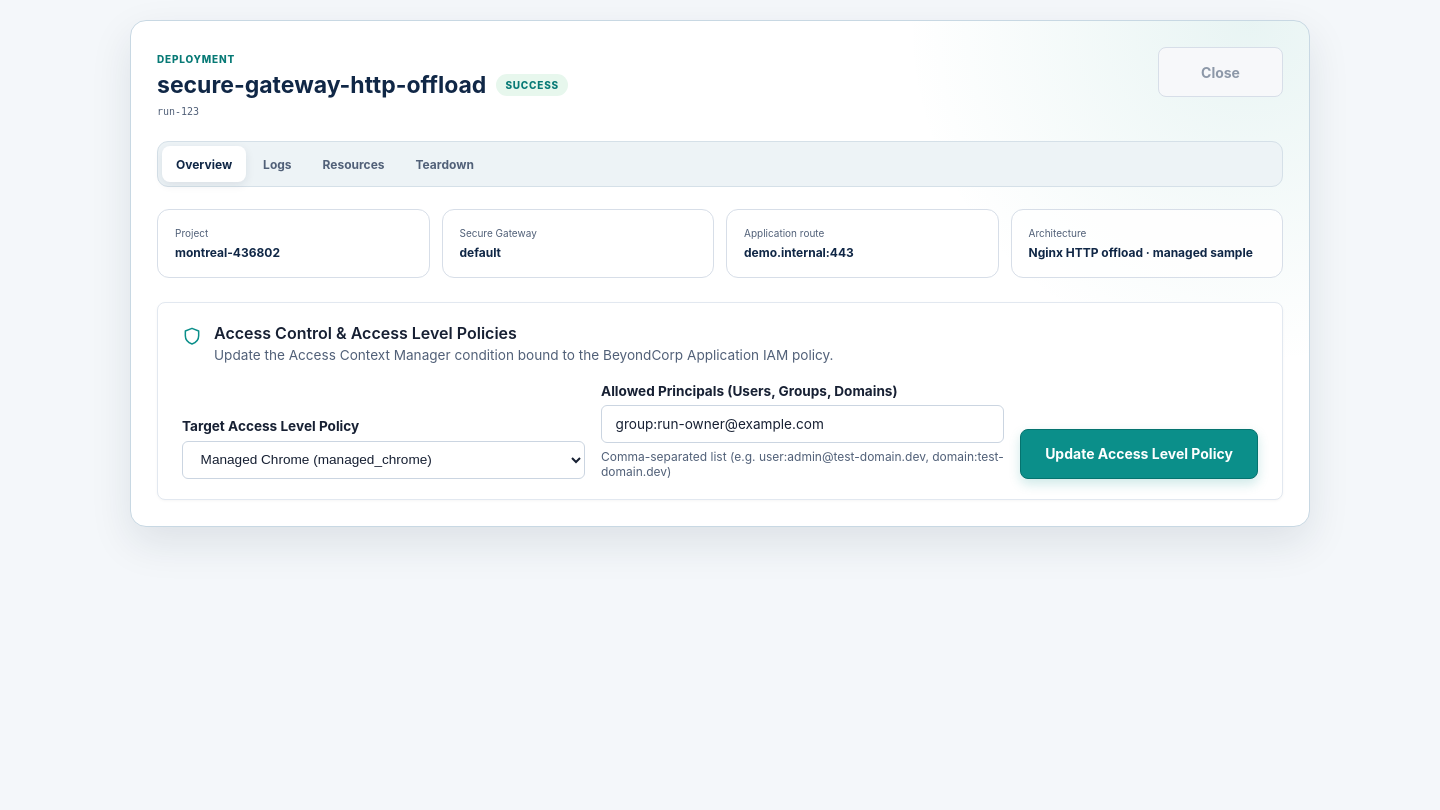
Scenario: DeploymentManager › restores and resumes an interrupted teardown after a page reload
This screenshot has width=1440, height=810.
Expected: the text "montreal-436802" is shown, [175,245,280,260]
Click the button "Teardown": (445, 164) [402,146,488,182]
(page scrolled)
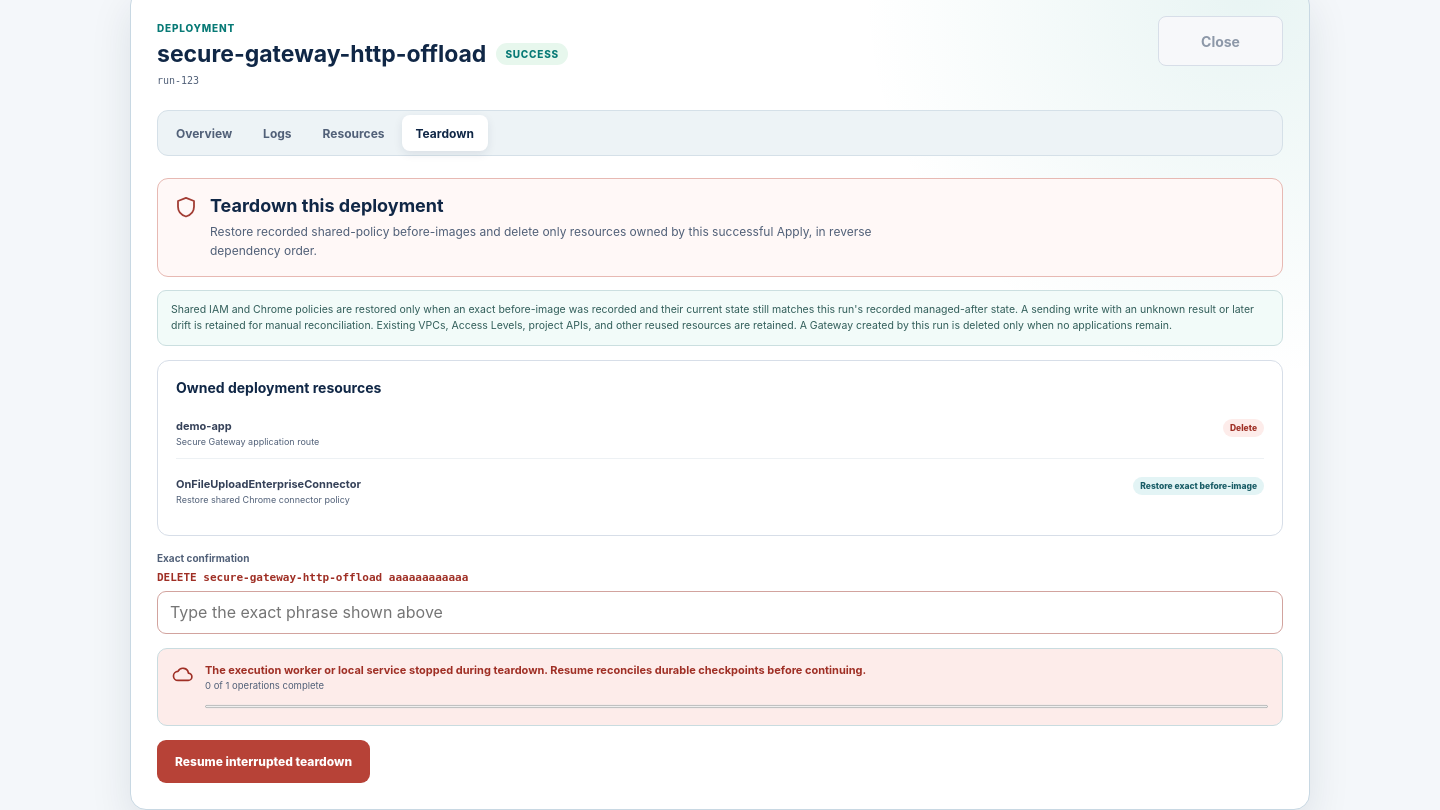
Now the text "execution worker or local service stopped during teardown" is shown, box [205,663,866,677]
Click the button "Resume interrupted teardown": (264, 761) [157,740,370,783]
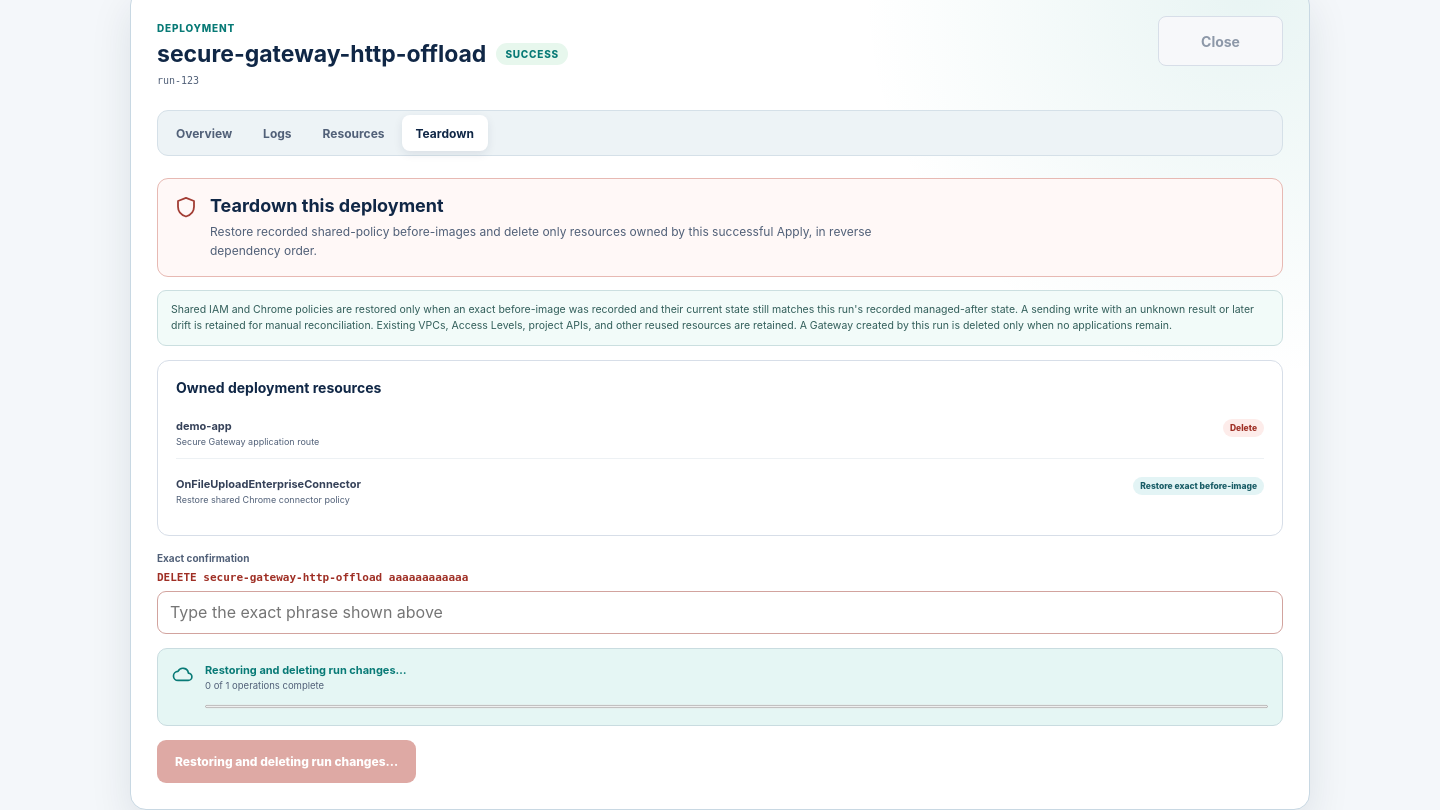
Now the text "Restoring and deleting run changes…" is shown, box [205,663,407,677]
